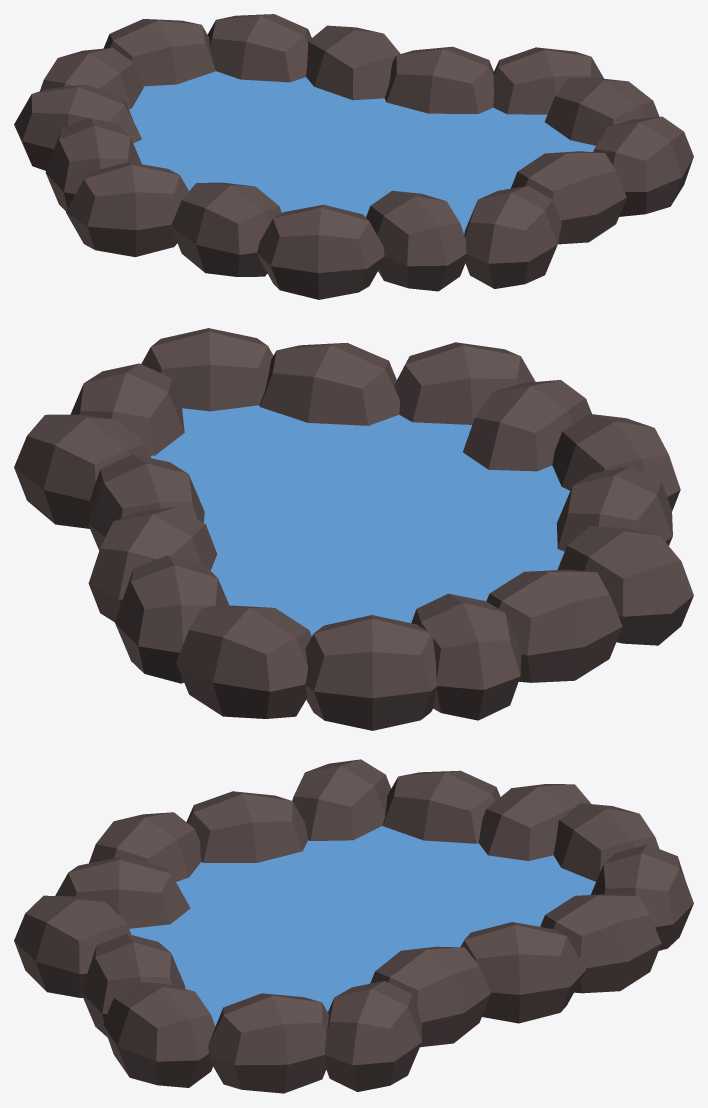
File: fishing_hole.glb
3 renders of one model, top to bottom at view 1: azimuth 30°, elevation 25°; view 2: azimuth 150°, elevation 25°; view 3: azimuth 270°, elevation 25°, orthographic. The views are drawn at different scales.
Visible parts, largest first — view 1: Cube; view 2: Cube; view 3: Cube.
Boxes of the visible parts, x1,y1,x2,y2 form: Cube: [14, 14, 693, 299]; Cube: [14, 328, 693, 730]; Cube: [14, 759, 693, 1093].
Bounding box in the file's own units: 10.51 × 1.68 × 10.83.
